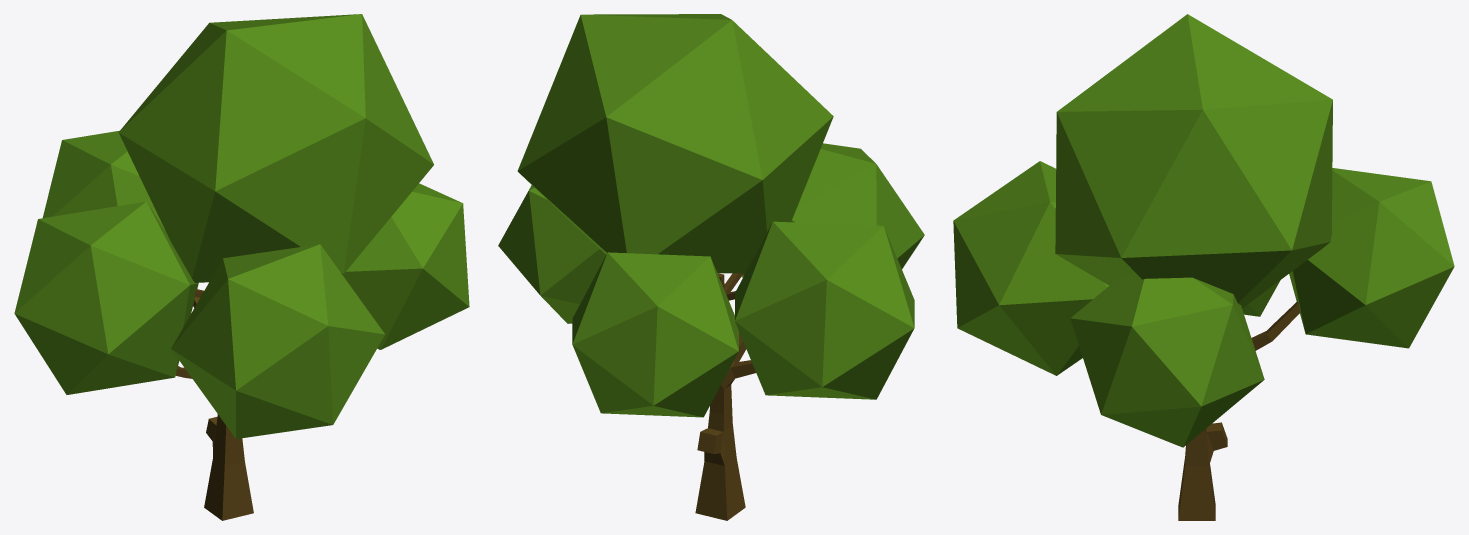
The model's file is Tree05.fbx.
The picture shows the model from 3 angles, left to right: view 1: azimuth 30°, elevation 25°; view 2: azimuth 150°, elevation 25°; view 3: azimuth 270°, elevation 25°; orthographic projection. The views are drawn at different scales.
Parts seen in each view (by area): view 1: Tree05; view 2: Tree05; view 3: Tree05.
Part boxes in pixels (x1,y1,x2,y2): Tree05: [14, 14, 469, 520]; Tree05: [498, 14, 924, 520]; Tree05: [953, 14, 1454, 520].
Size of the model in its own units: 6.67 by 7.32 by 6.71.
